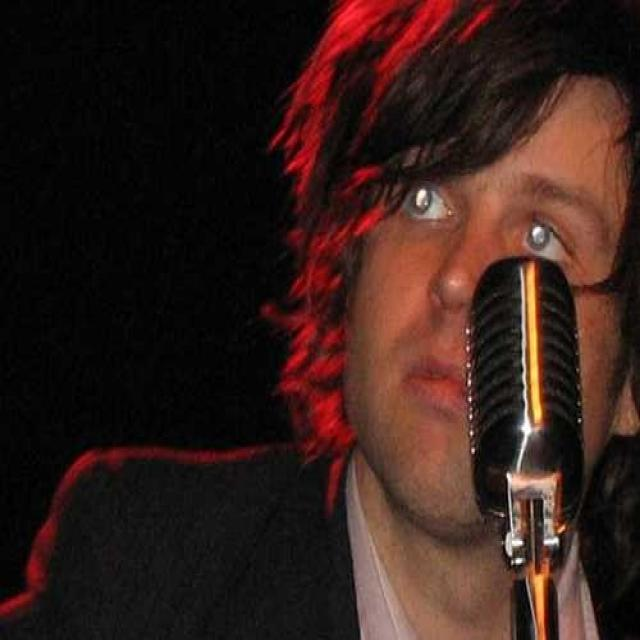microphone: (459, 253, 592, 569)
